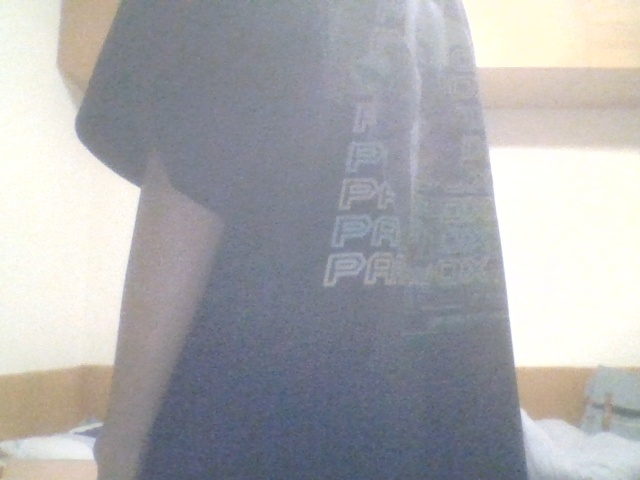human: (74, 2, 529, 480)
